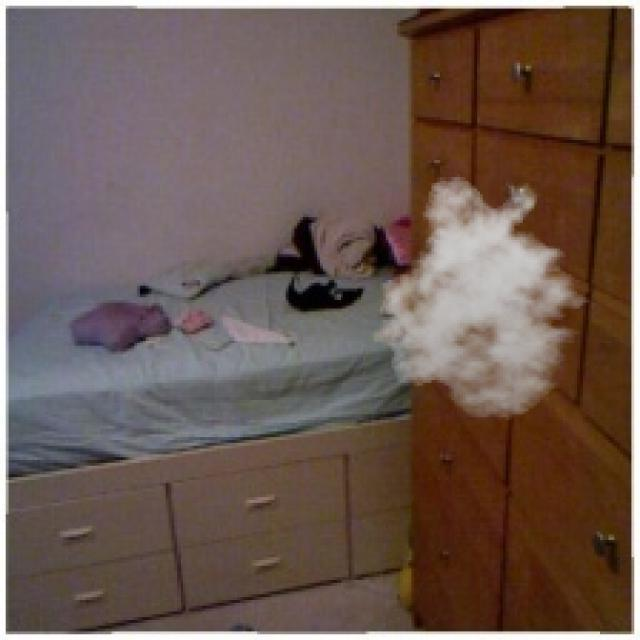Smoke: (366, 174, 600, 420)
